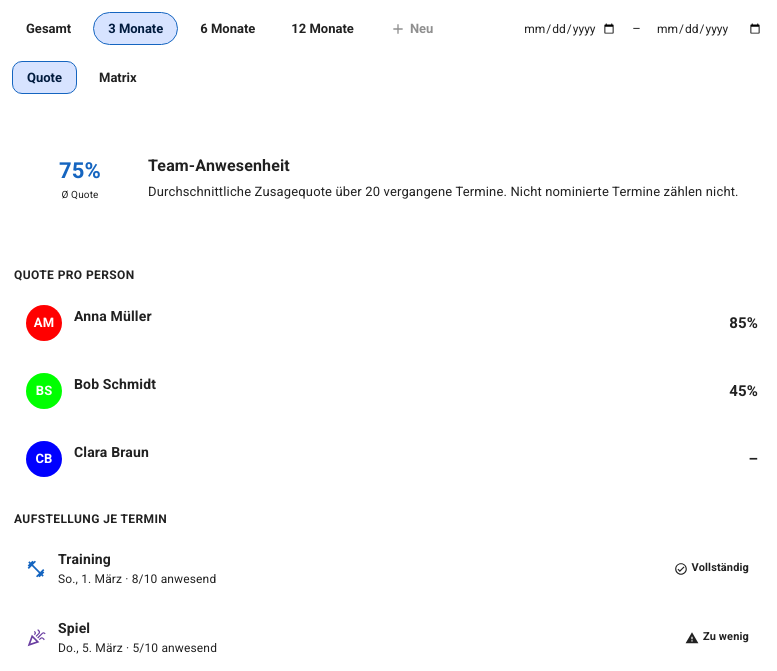
it: Stats › filters matrix columns by event type via the checkboxes
Click the tab "Matrix".
click(118, 78)  # box [85,61,151,94]
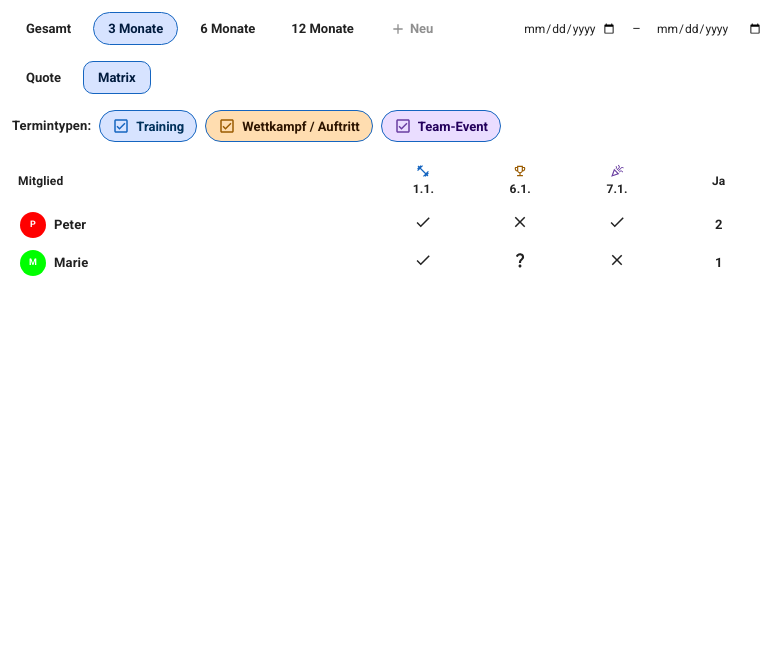
expect the text "7.1." is shown: met, box [606,164,628,196]
# Uncheck the "event" type filter → its column disappears.
Click the checkbox labelled "Team-Event".
click(441, 126)  # box [381,110,501,142]
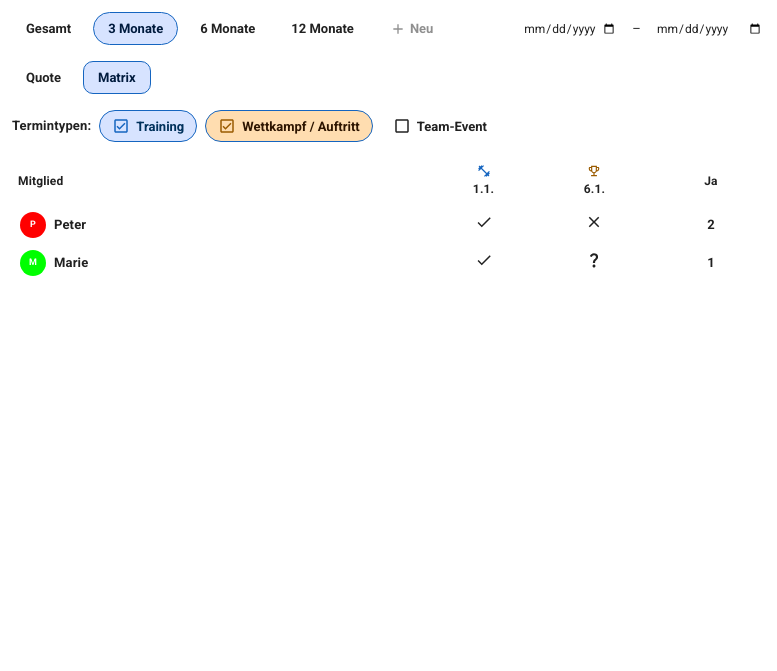
expect the text "1.1." is shown: met, box [473,164,494,196]
expect the text "7.1." is gone: met
